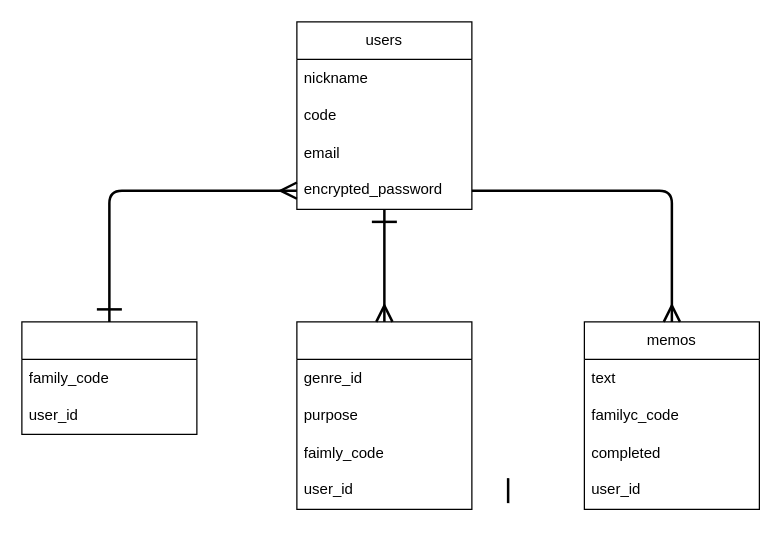
This 781x535 diagram has some shape labels left out. Here are the shapes that lost their labels. From the top down, the box of each, then its label:
(21, 321, 197, 434): family_accounts
(296, 321, 472, 509): situations
